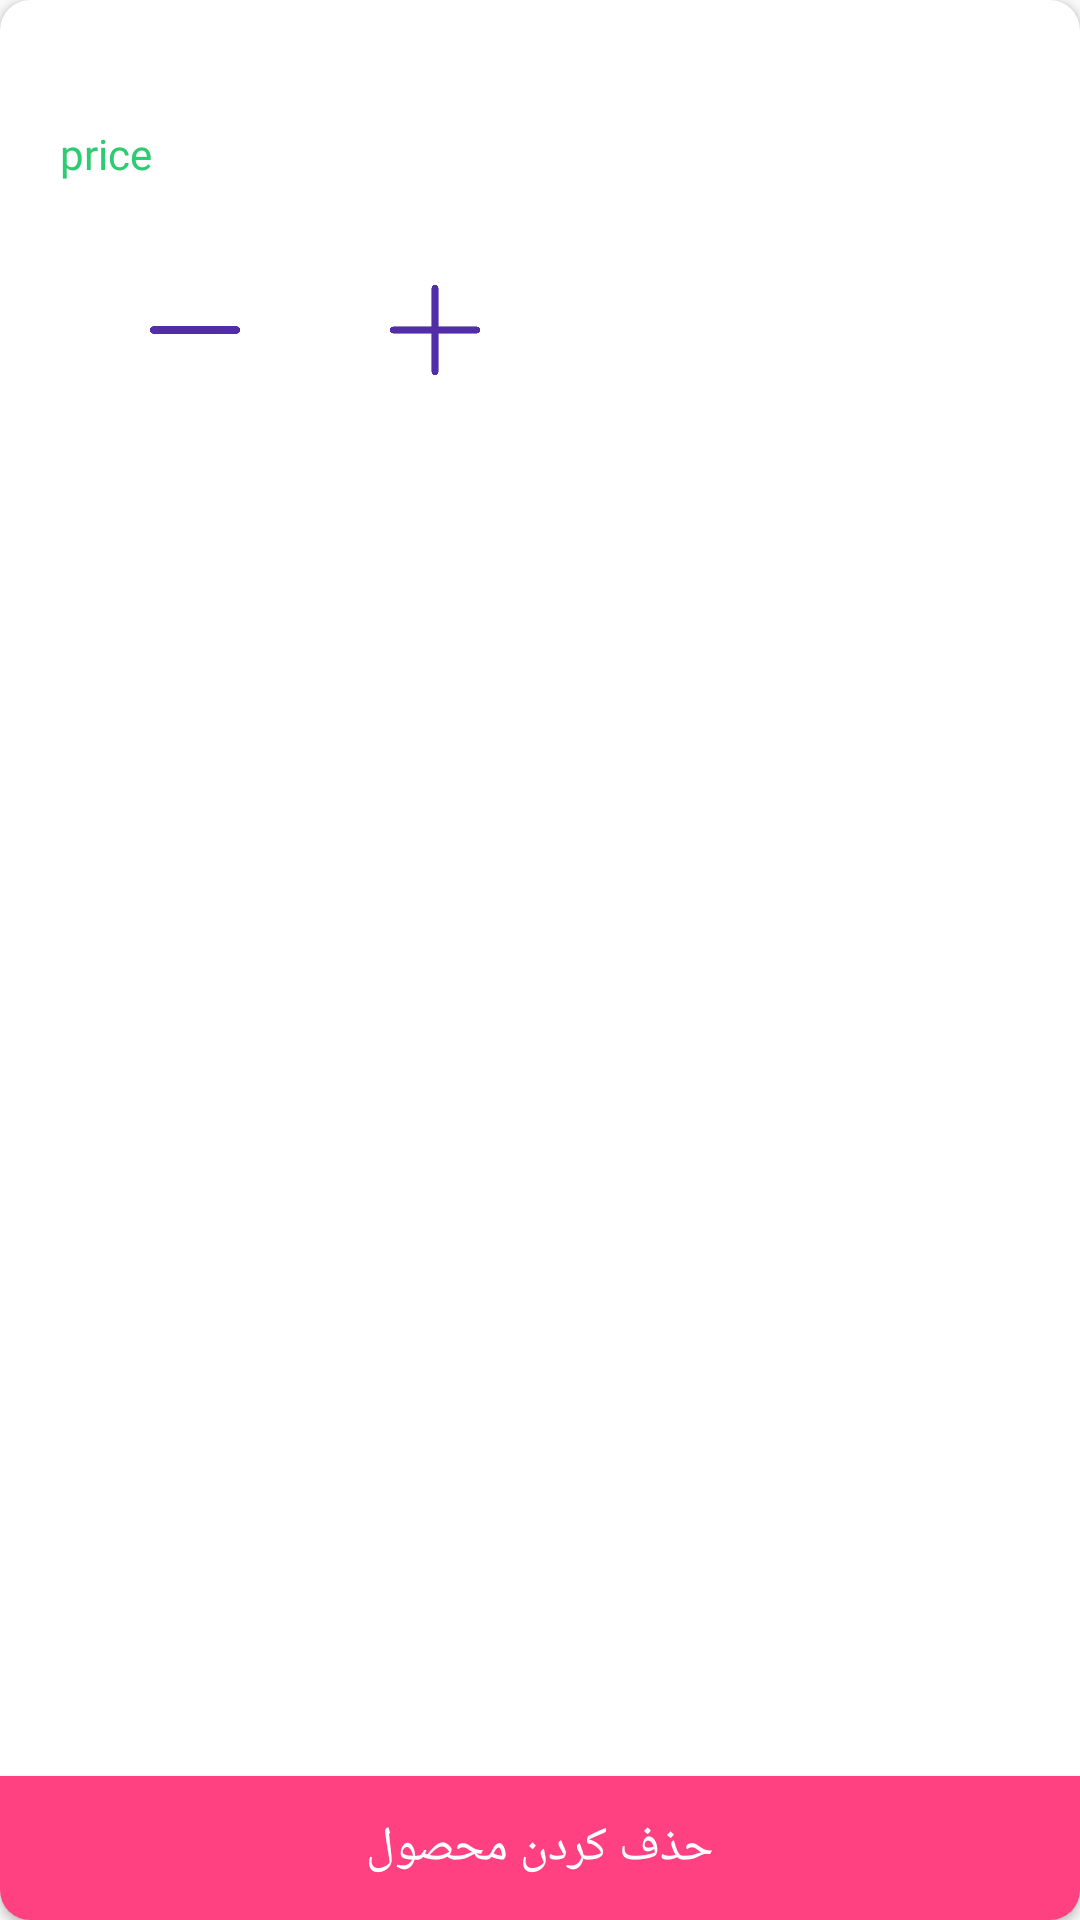

Icons on this 1080px x 1920px Android screen, each with the point to tap as (x=x, y=y):
plus: (x=435, y=330)
